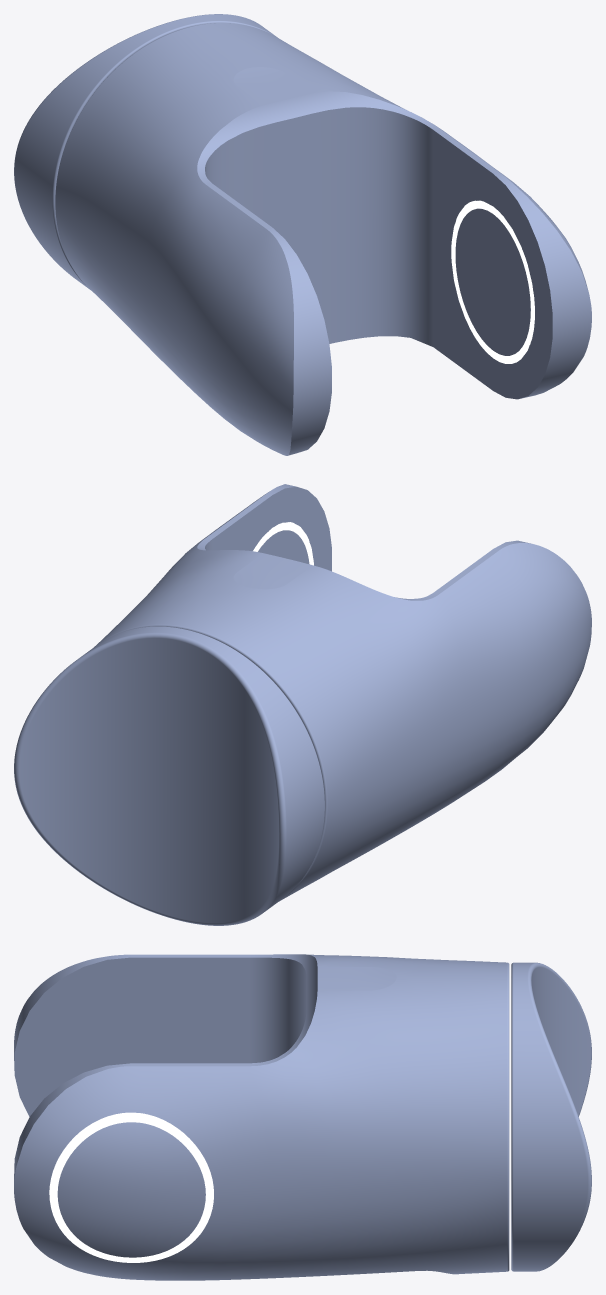
Rendered from 小原子左大臂.glb.
3 views of the same model, one above another, from view 1: azimuth 30°, elevation 25°; view 2: azimuth 150°, elevation 25°; view 3: azimuth 270°, elevation 25° (orthographic).
Size of the model in its own units: 0.0901 by 0.0736 by 0.1377.
